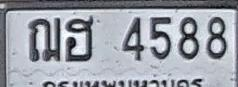4: (122, 16, 144, 61)
5: (150, 16, 172, 60)
8: (178, 16, 199, 59), (206, 16, 227, 59)
A12: (28, 17, 61, 62)
A44: (65, 16, 94, 62)
